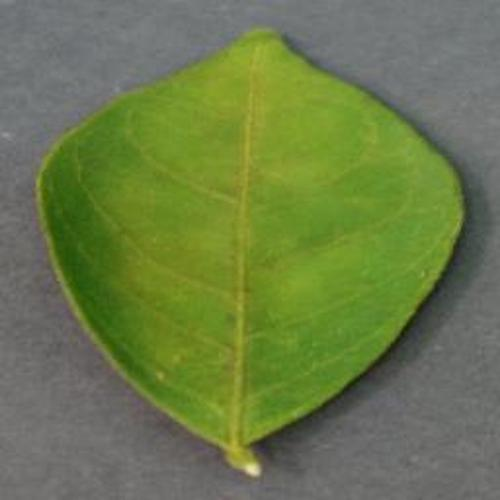Orange: (38, 27, 465, 479)
